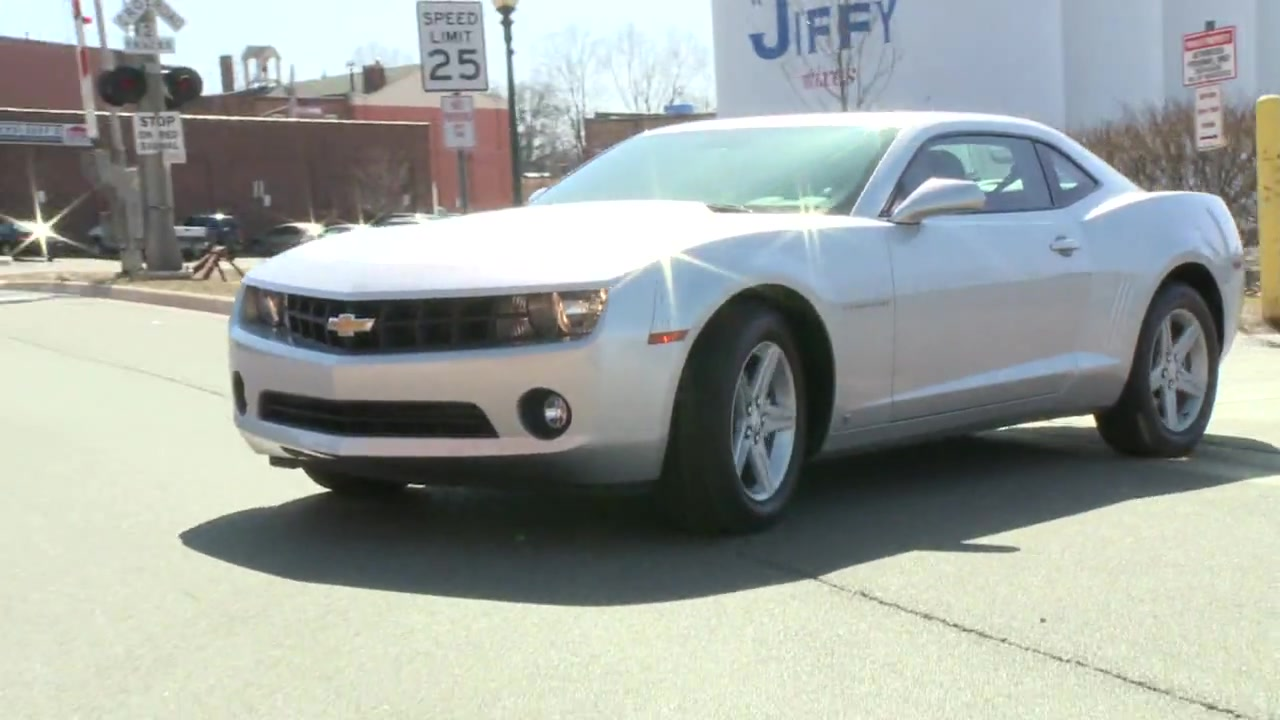car: (223, 110, 1249, 541)
